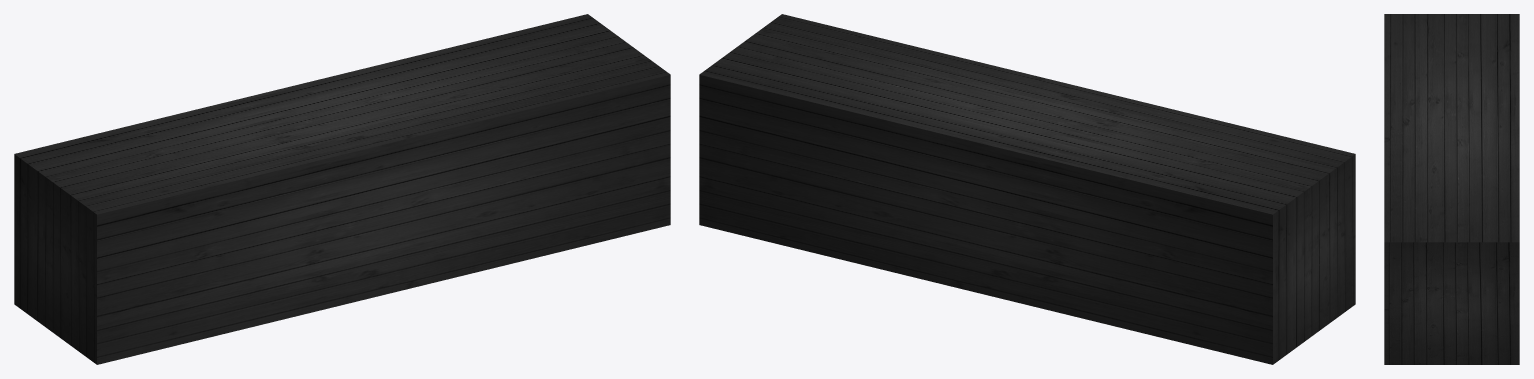
File: numberpad.obj
3 views of the same model, side by side, from view 1: azimuth 30°, elevation 25°; view 2: azimuth 150°, elevation 25°; view 3: azimuth 270°, elevation 25° (orthographic). The views are drawn at different scales.
Parts seen in each view (by area): view 1: pCube1; view 2: pCube1; view 3: pCube1.
Part boxes in pixels (box(x1,y1,x2,y2)): pCube1: box(14, 14, 670, 364); pCube1: box(699, 14, 1355, 364); pCube1: box(1384, 14, 1519, 364).
Bounding box in the file's own units: 3.99 × 1 × 1.
Materials: 1 (1 with a texture image).
